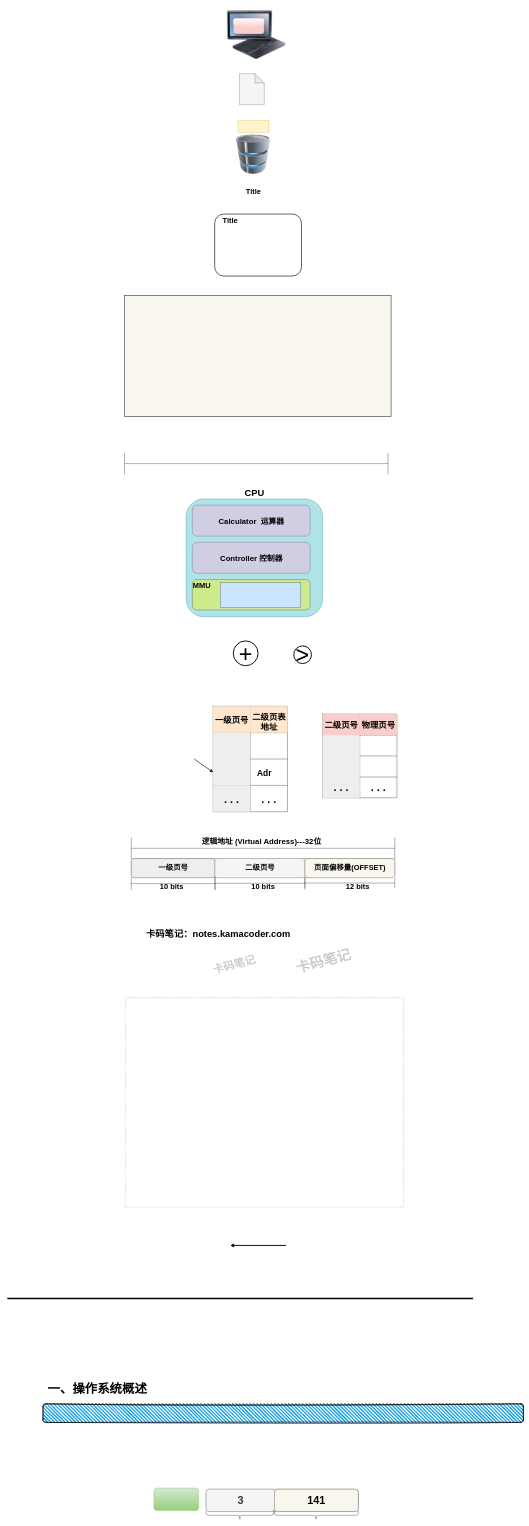
This 529x1526 diagram has some shape labels left out. Each missing label, with the centre of its shape:
__.class: point 251,89
JVM: point 249,26
MySQL: point 253,126
PTR 页表寄存器: point 260,594
服务器端: point 257,356
逻辑地址: point 176,1499
